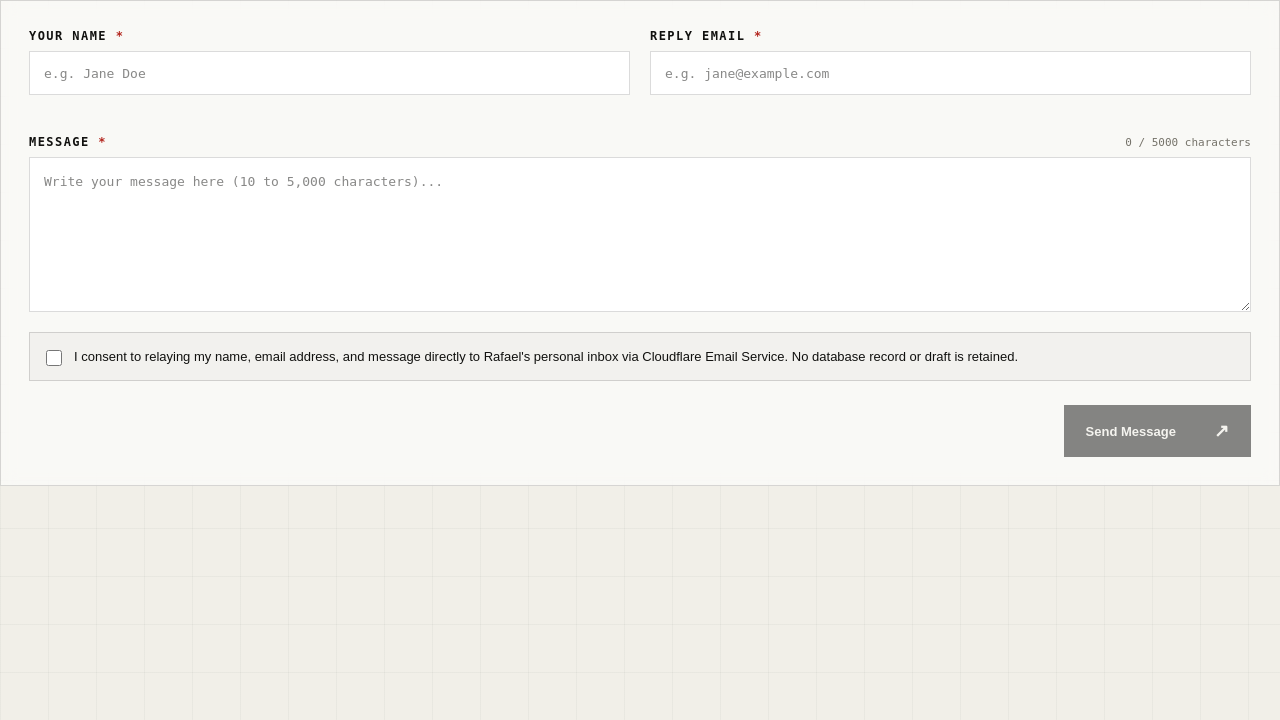
Test: ContactForm flow with a fake network › shows queued only for the documented queued payload
The image size is (1280, 720).
Step 1. Type "Jane Doe" into the field labelled "Your Name *" → (330, 73), box top-left (29, 51), bottom-right (630, 95)
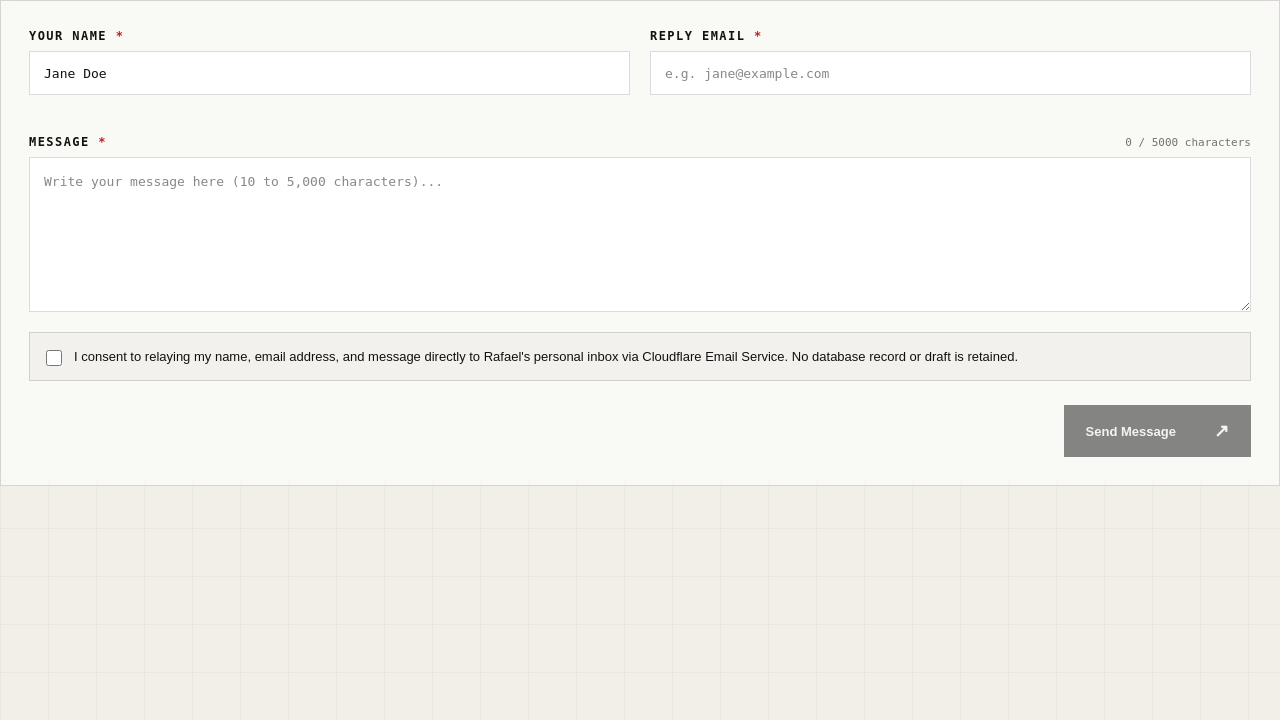
Step 2. Type "jane@example.com" into the field labelled "Reply Email *" → (950, 73), box top-left (650, 51), bottom-right (1251, 95)
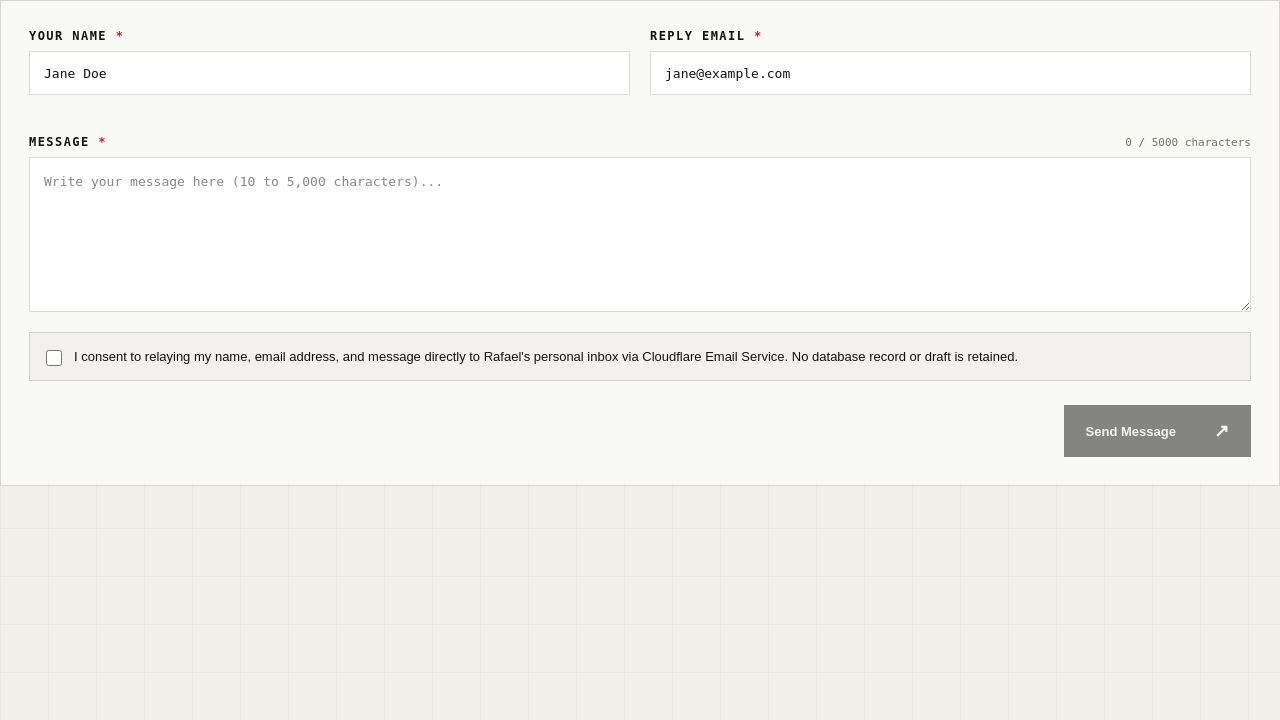
Step 3. Type "Hello Rafael, inquiry about your work." into the text box labelled "Message *" → (640, 234), box top-left (29, 157), bottom-right (1251, 312)
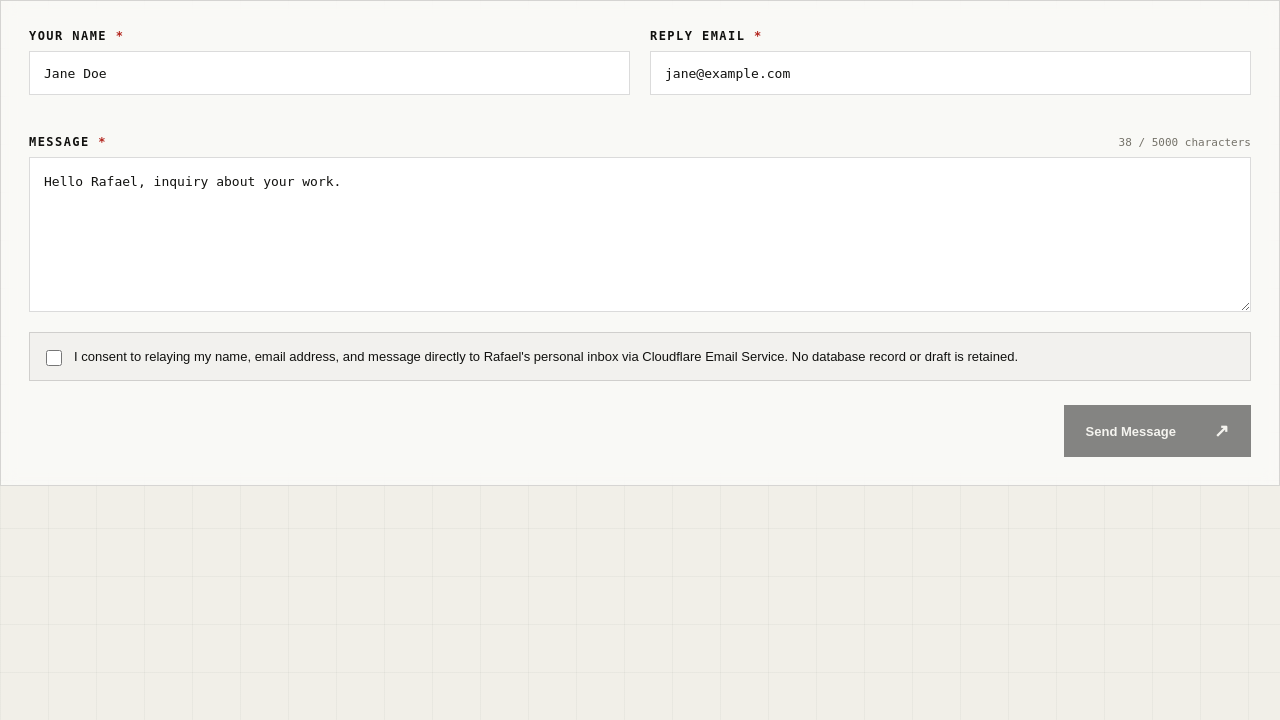
Step 4. Click the checkbox → (54, 358), box top-left (46, 350), bottom-right (62, 366)
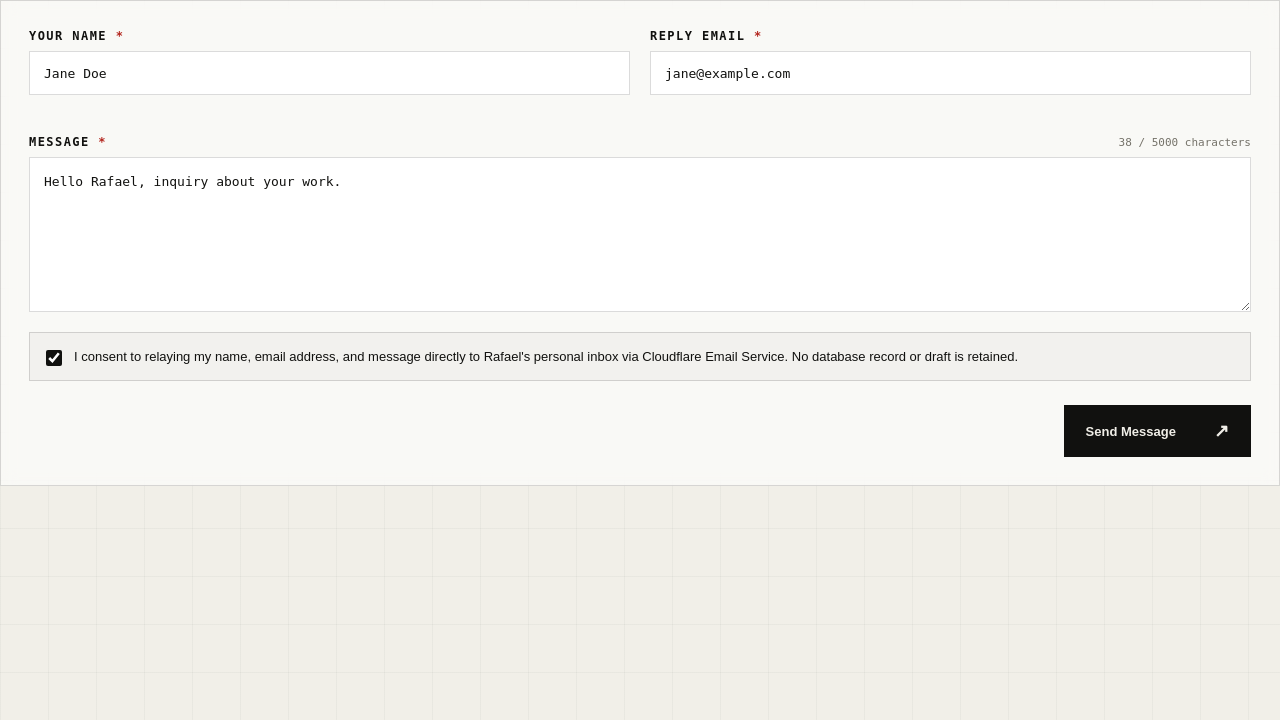
Step 5. Click the button "Send Message ↗" → (1157, 431), box top-left (1064, 405), bottom-right (1251, 457)
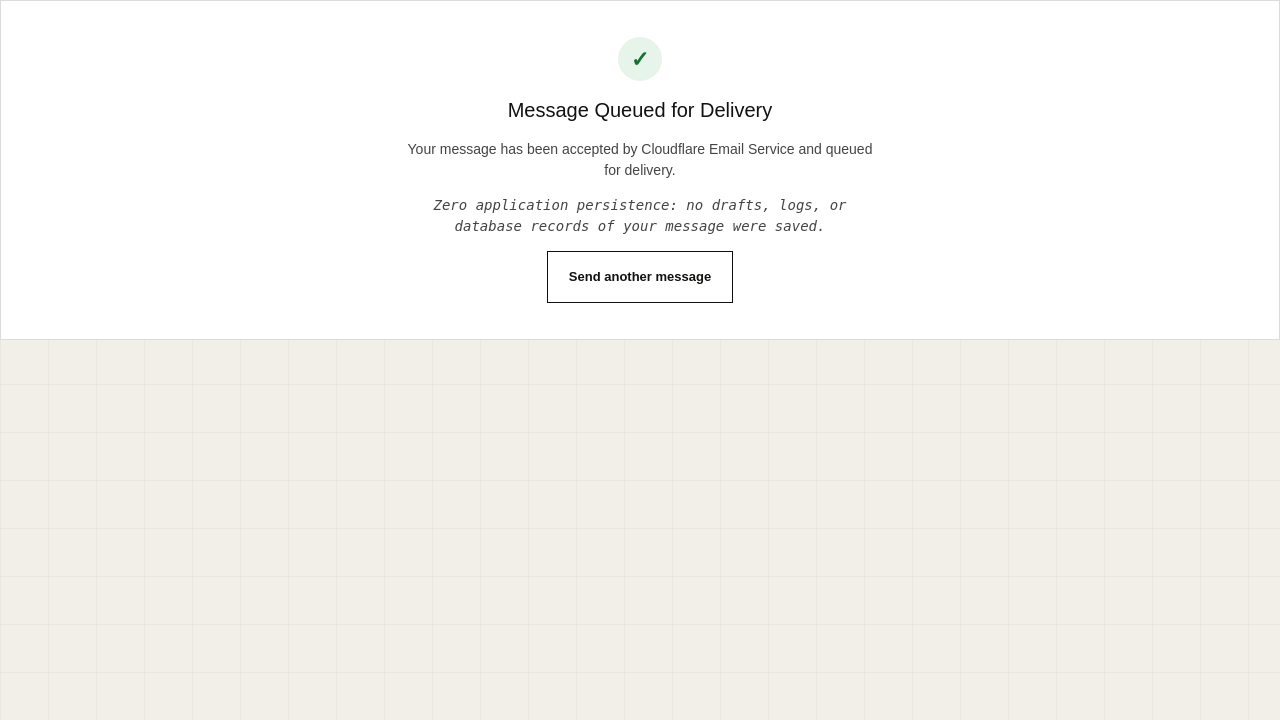
expect the heading "Message Queued for Delivery" is shown: met, box top-left (508, 95), bottom-right (772, 125)
